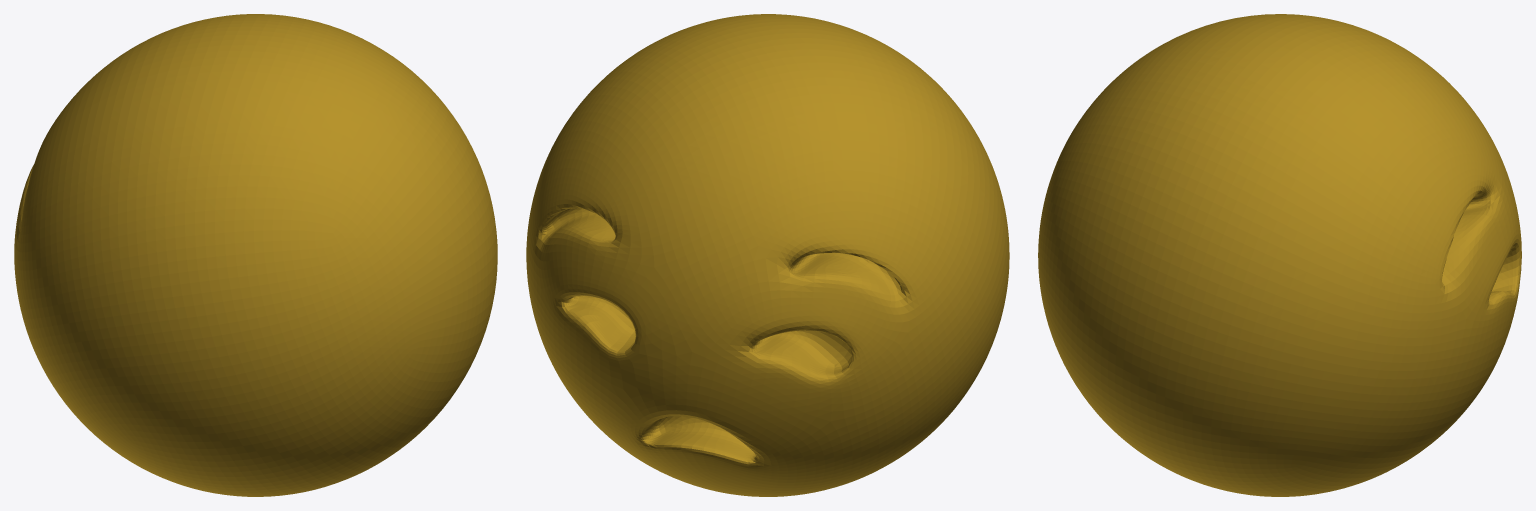
The model's file is disappointed.obj.
3 renders of one model, left to right at view 1: azimuth 30°, elevation 25°; view 2: azimuth 150°, elevation 25°; view 3: azimuth 270°, elevation 25°, orthographic.
Visible parts, largest first — view 1: ZBrush_def_ZBrush_def.002; view 2: ZBrush_def_ZBrush_def.002; view 3: ZBrush_def_ZBrush_def.002.
Part boxes in pixels (x1,y1,x2,y2): ZBrush_def_ZBrush_def.002: [14, 14, 497, 496]; ZBrush_def_ZBrush_def.002: [526, 14, 1009, 496]; ZBrush_def_ZBrush_def.002: [1038, 14, 1521, 496].
Bounding box in the file's own units: 1.91 × 1.91 × 1.91.
